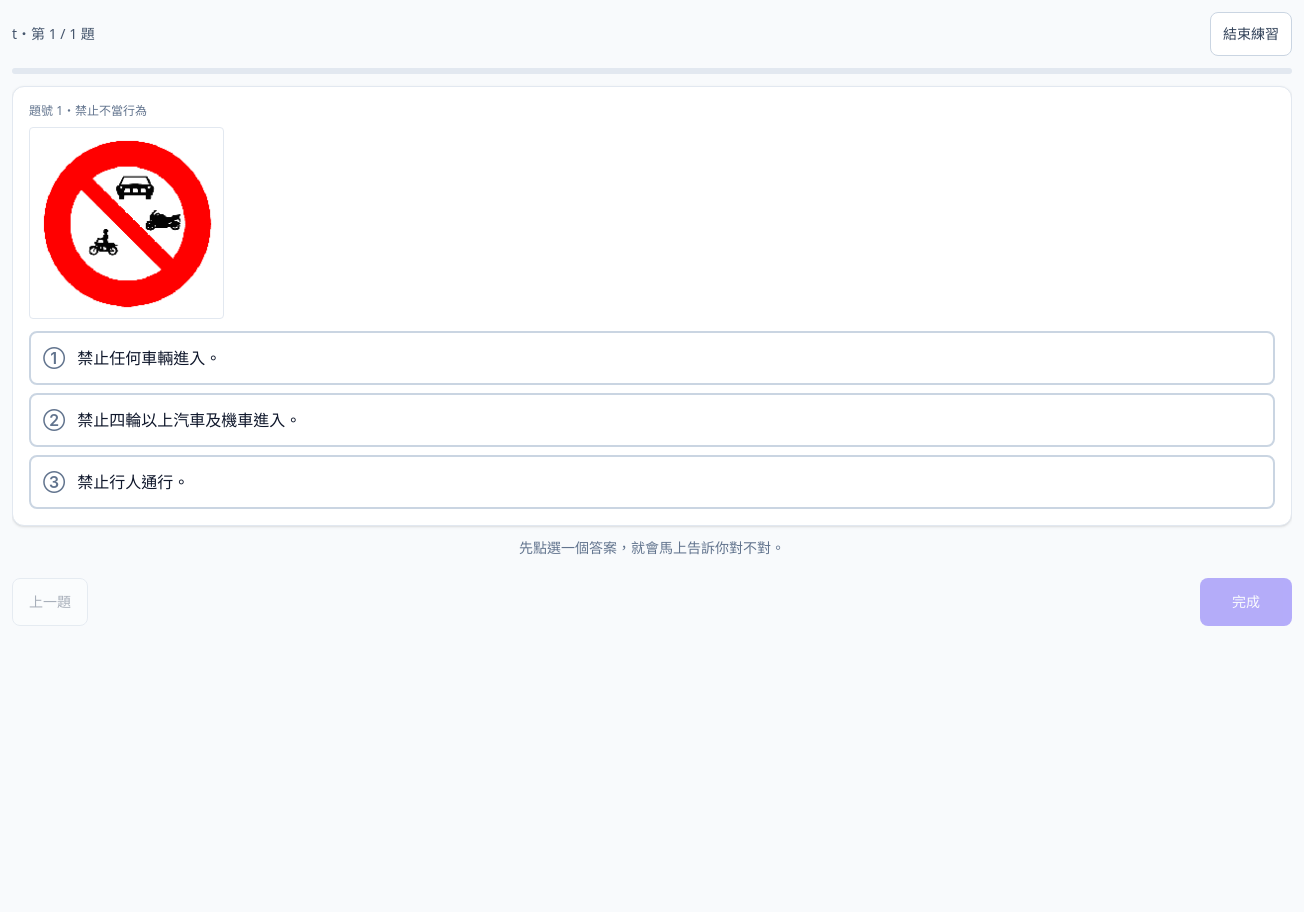
Scenario: 作答鼓勵 › 完成後顯示依答對率的鼓勵，並說明錯題已收進錯題本
The image size is (1304, 912).
Click the button "③ 禁止行人通行。". click: (133, 482)
box: [29,455,1275,509]
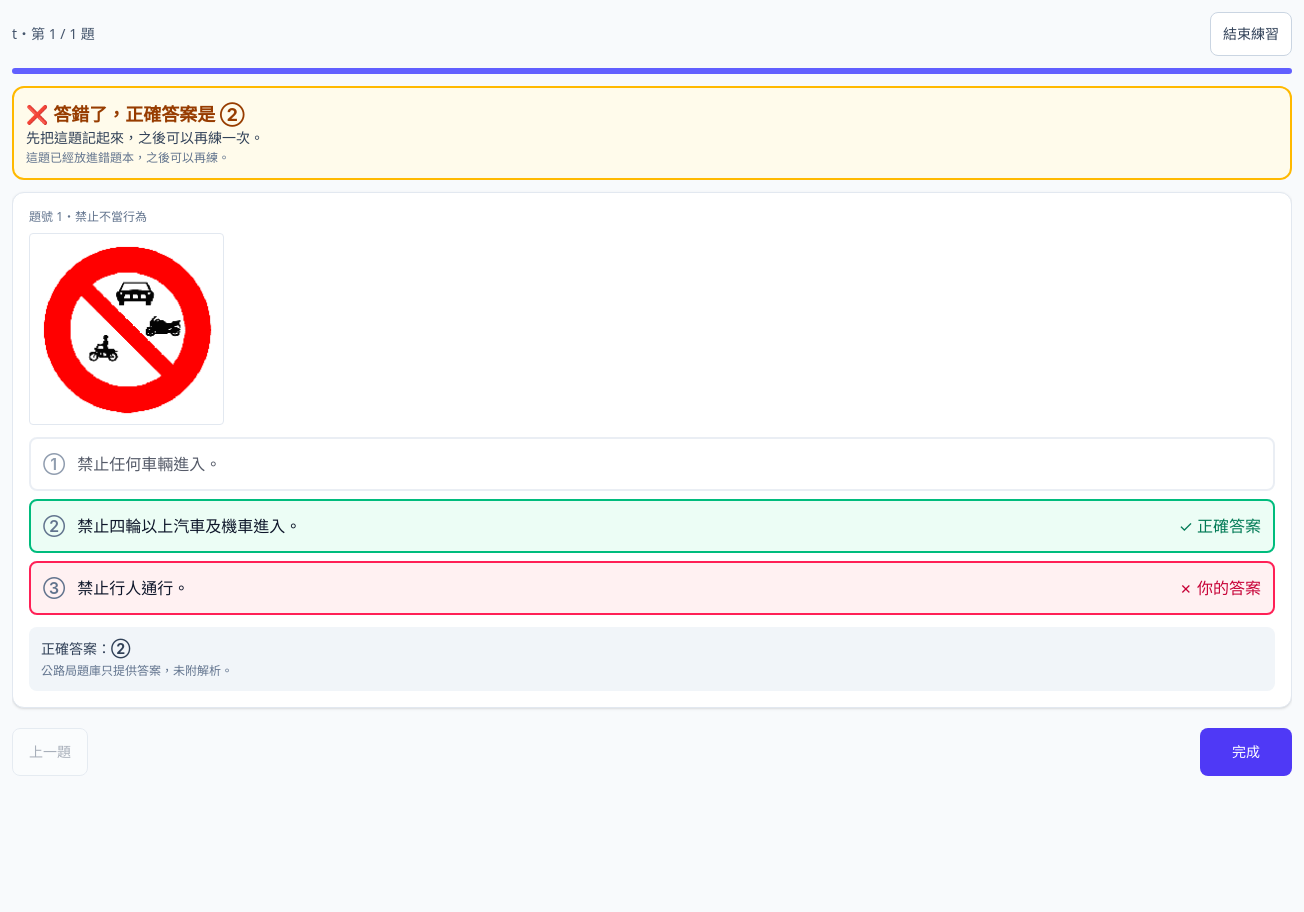
Click the button "完成". click: (1246, 752)
box: [1200,728,1292,776]
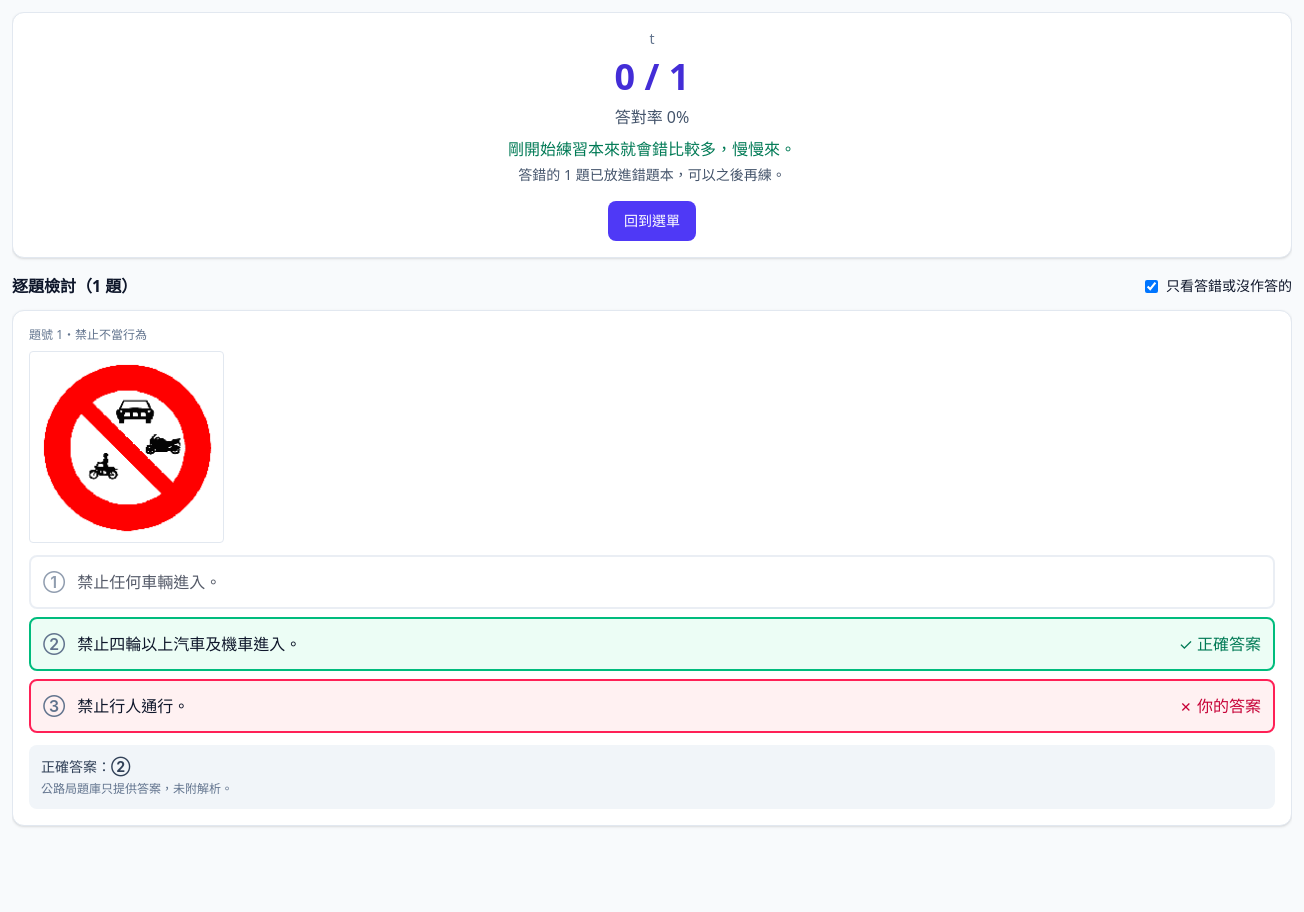
Check: the text "答錯的 1 題已放進錯題本，可以之後再練。" is shown, box [518,165,786,184]
